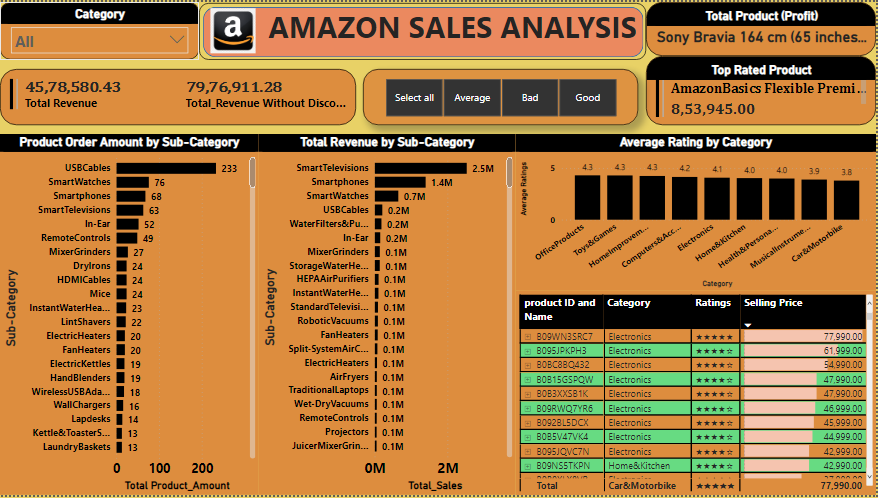

Layout of this report page (visuals, bound fields, positions):
{"tool":"powerbi","page":{"name":"Page 1","canvas":[1280,720],"ordinal":0},"visuals":[{"type":"shape","box":[290.6,1.5,652.8,83.2],"z":0},{"type":"image","box":[302.4,0,75.6,84],"z":1000},{"type":"textbox","box":[378.3,1.5,565.2,83.2],"z":2000},{"type":"clusteredBarChart","title":"Product Order Amount by Sub-Category","fields":{"Y":["amazon.Total Product_Amount"],"Category":["amazon.Sub-Category"]},"box":[0,192.8,378.3,527.2],"z":3000},{"type":"clusteredBarChart","title":"Total Revenue by Sub-Category","fields":{"Category":["amazon.Sub-Category"],"Y":["amazon.Total_Sales"]},"box":[378.3,192.8,375.3,527.2],"z":4000},{"type":"slicer","title":" Category","fields":{"Values":["amazon.Category"]},"box":[0,0,290.6,84],"z":5000},{"type":"multiRowCard","title":"Product Order Amount by Category","fields":{"Values":["amazon.Total_Sales(according_to_dc_price)","amazon.Total_Sales"]},"box":[0,97.8,519.9,81.8],"z":6000},{"type":"card","title":"Total Product (Profit)","fields":{"Values":["Min(amazon.product_name)"]},"box":[944,0,336,79],"z":7000},{"type":"columnChart","title":"Average Rating by Category","fields":{"Category":["amazon.Category"],"Y":["Avg(amazon.rating)"]},"box":[753.6,192.8,525.8,229.3],"z":8000},{"type":"multiRowCard","title":"Top Rated Product","fields":{"Values":["amazon.product_name","Sum(amazon.rating_count)"]},"box":[944,79,336,100.8],"z":9000},{"type":"slicer","fields":{"Values":["amazon.Rating Wise Quality"]},"box":[530.1,97.8,401.6,81.8],"z":10000},{"type":"pivotTable","fields":{"Rows":["amazon.product_id","amazon.product_name"],"Values":["Min(amazon.Category)","amazon.Max of rating star rating","Max(amazon.discounted_price)"]},"box":[753.6,422.1,525.8,297.9],"z":11000}]}

Visuals, with their boxes in screenshot pixels (x1, y1, x2, y2), scaled from the page's 1280x720 canvas onto the 878x498 screenshot:
shape: detection(199, 1, 647, 59)
image: detection(207, 0, 259, 58)
textbox: detection(259, 1, 647, 59)
"Product Order Amount by Sub-Category" clusteredBarChart: detection(0, 133, 259, 497)
"Total Revenue by Sub-Category" clusteredBarChart: detection(259, 133, 517, 497)
" Category" slicer: detection(0, 0, 199, 58)
"Product Order Amount by Category" multiRowCard: detection(0, 68, 357, 124)
"Total Product (Profit)" card: detection(648, 0, 877, 55)
"Average Rating by Category" columnChart: detection(517, 133, 877, 292)
"Top Rated Product" multiRowCard: detection(648, 55, 877, 124)
slicer - amazon.Rating Wise Quality: detection(364, 68, 639, 124)
pivotTable - amazon.product_id x amazon.product_name: detection(517, 292, 877, 497)
